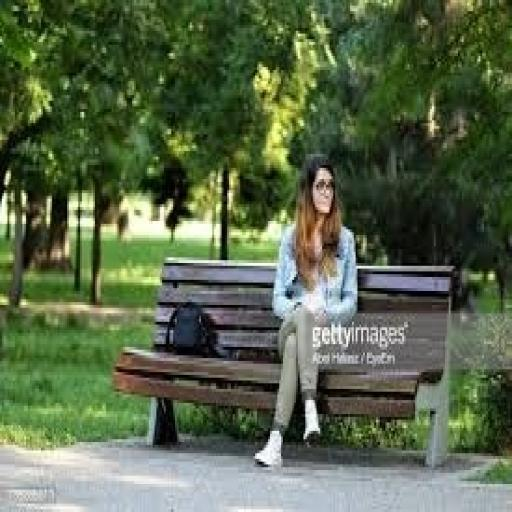sitting: (252, 148, 360, 468)
